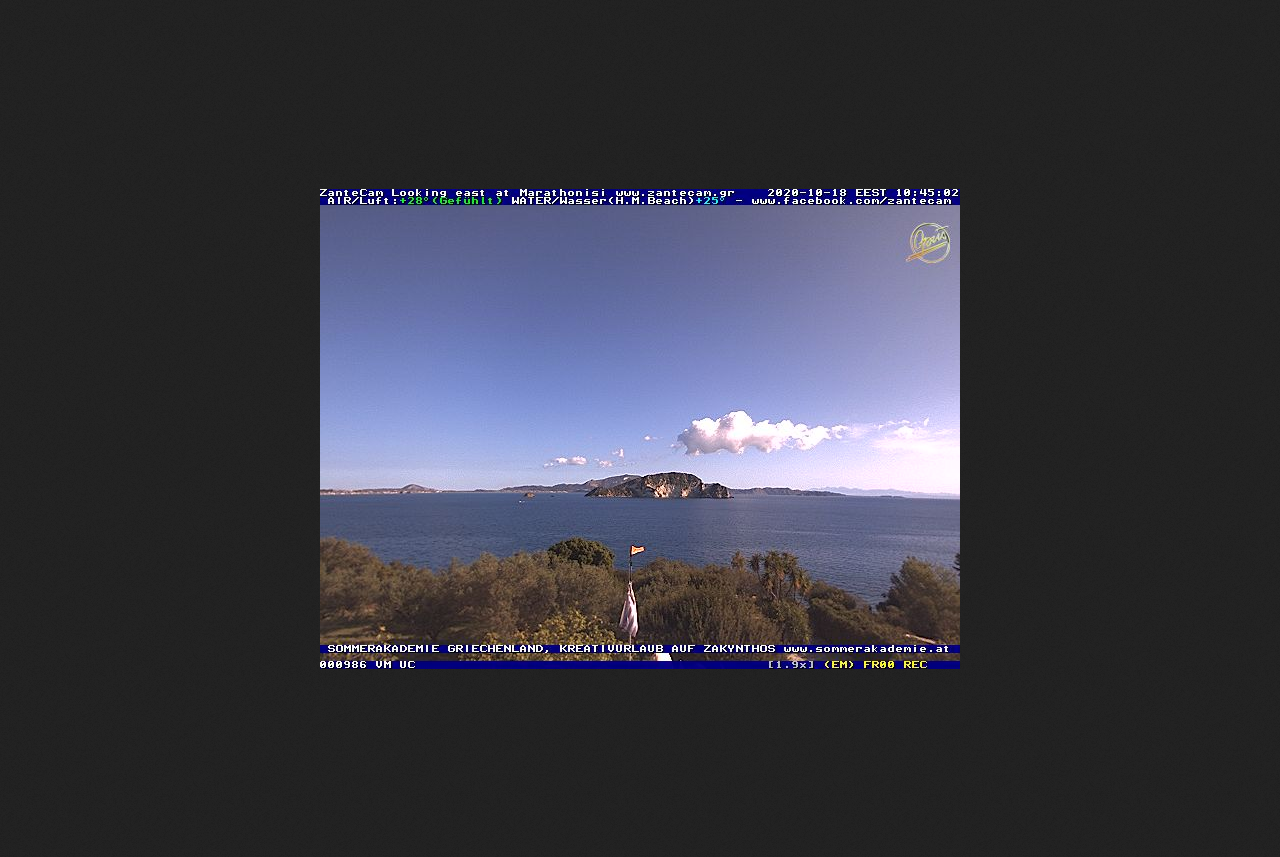no: (620, 586, 641, 640)
